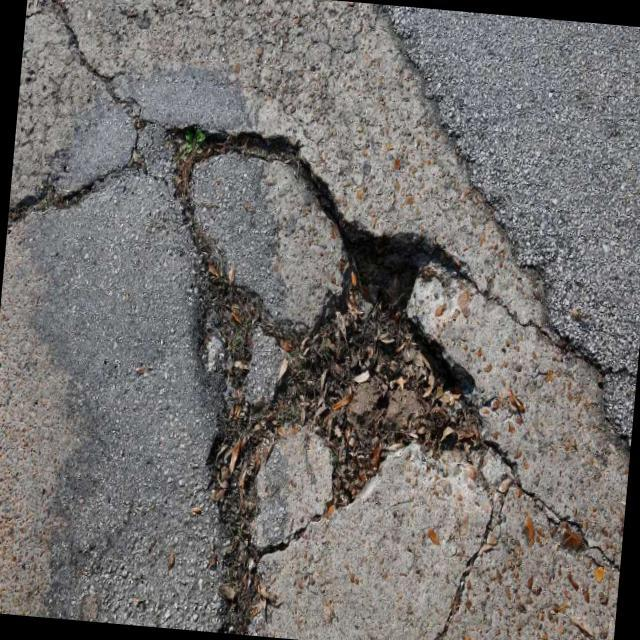Pothole: (282, 192, 492, 528)
